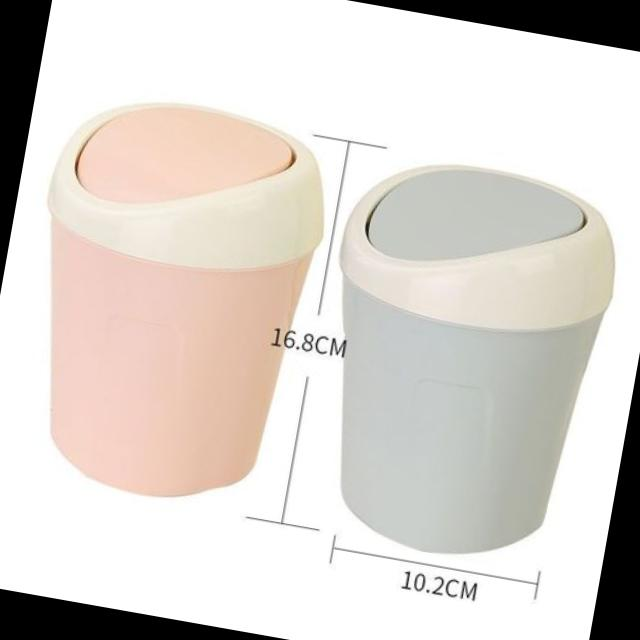dustbin: (0, 72, 348, 522), (286, 140, 638, 580)
